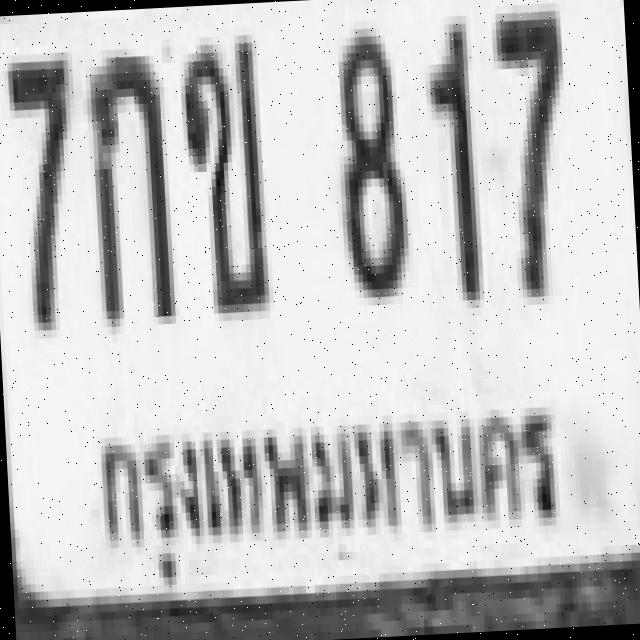1: (422, 16, 480, 302)
10GorGai: (85, 48, 172, 320)
11KhorKhai: (176, 31, 268, 311)
7: (490, 3, 570, 290), (2, 53, 76, 324)
8: (328, 20, 406, 292)
Bangkok: (85, 396, 588, 584)
